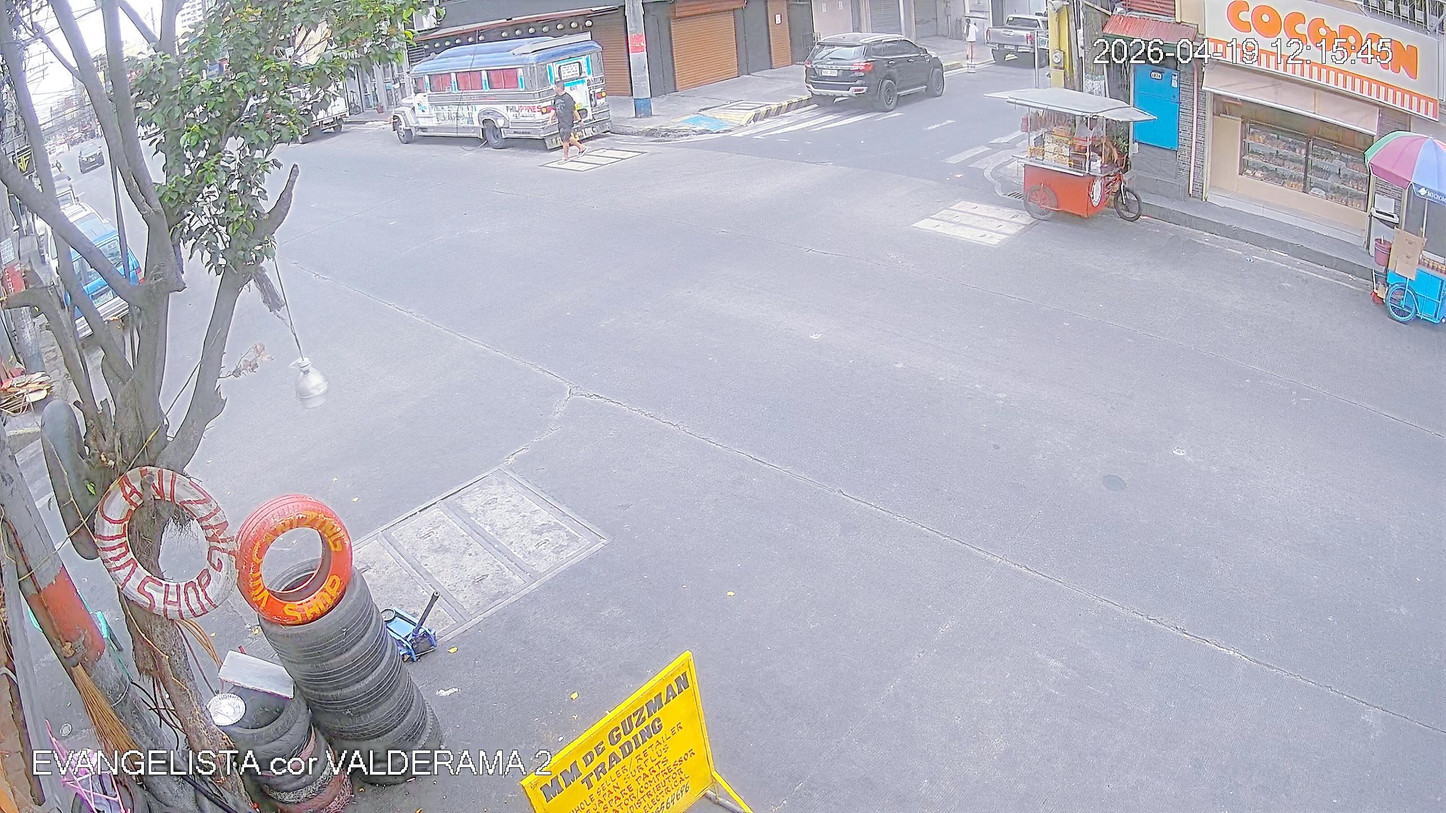Car: (810, 28, 941, 113), (80, 140, 103, 171)
